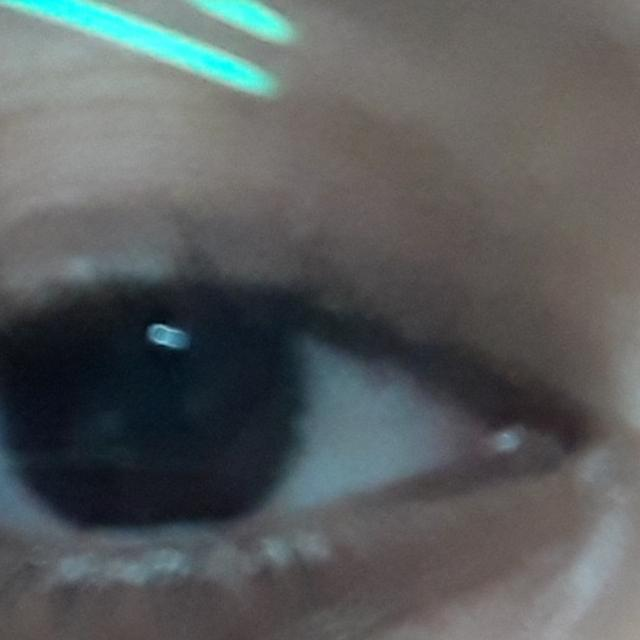eye: (0, 305, 504, 535)
iris: (0, 304, 279, 524)
